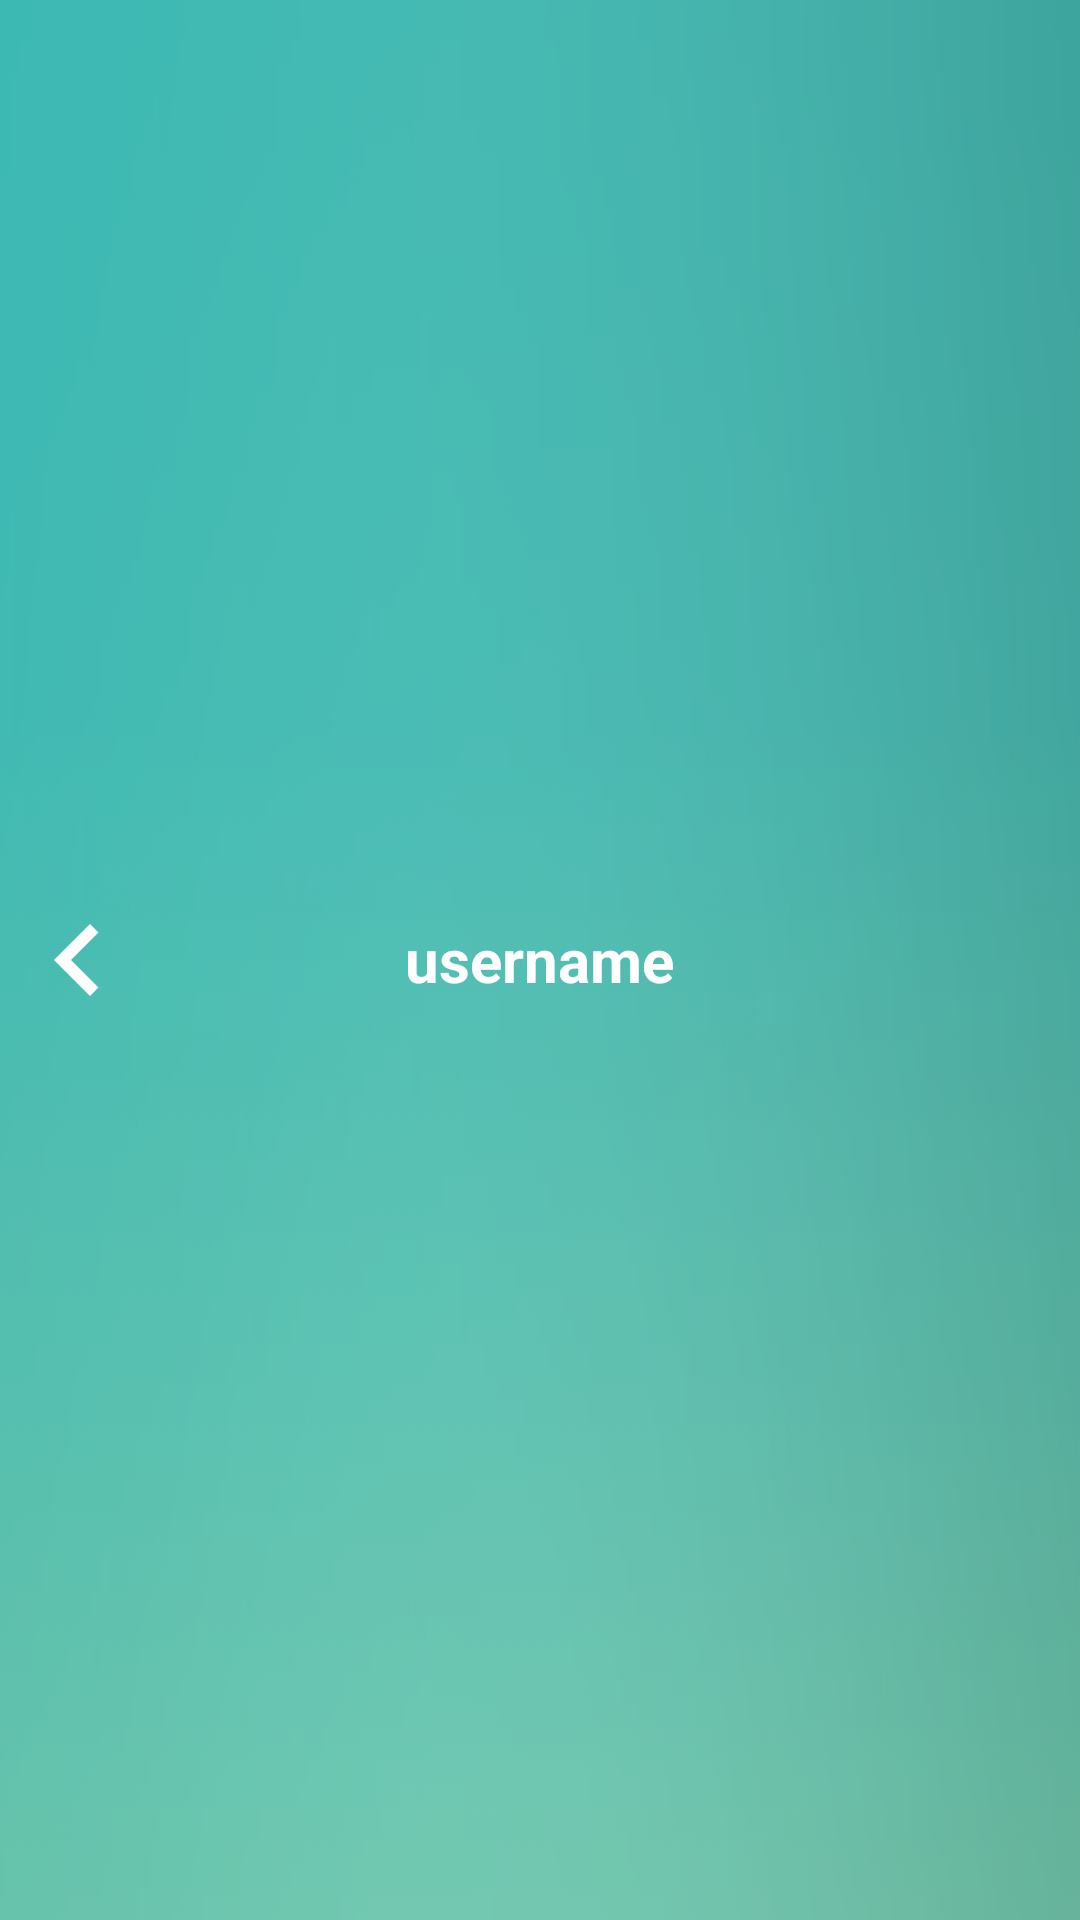

Icons on this 1080 x 1920 Android screen, each with its box as (x1, y1, x2, y2):
Back: (54, 924, 99, 996)
